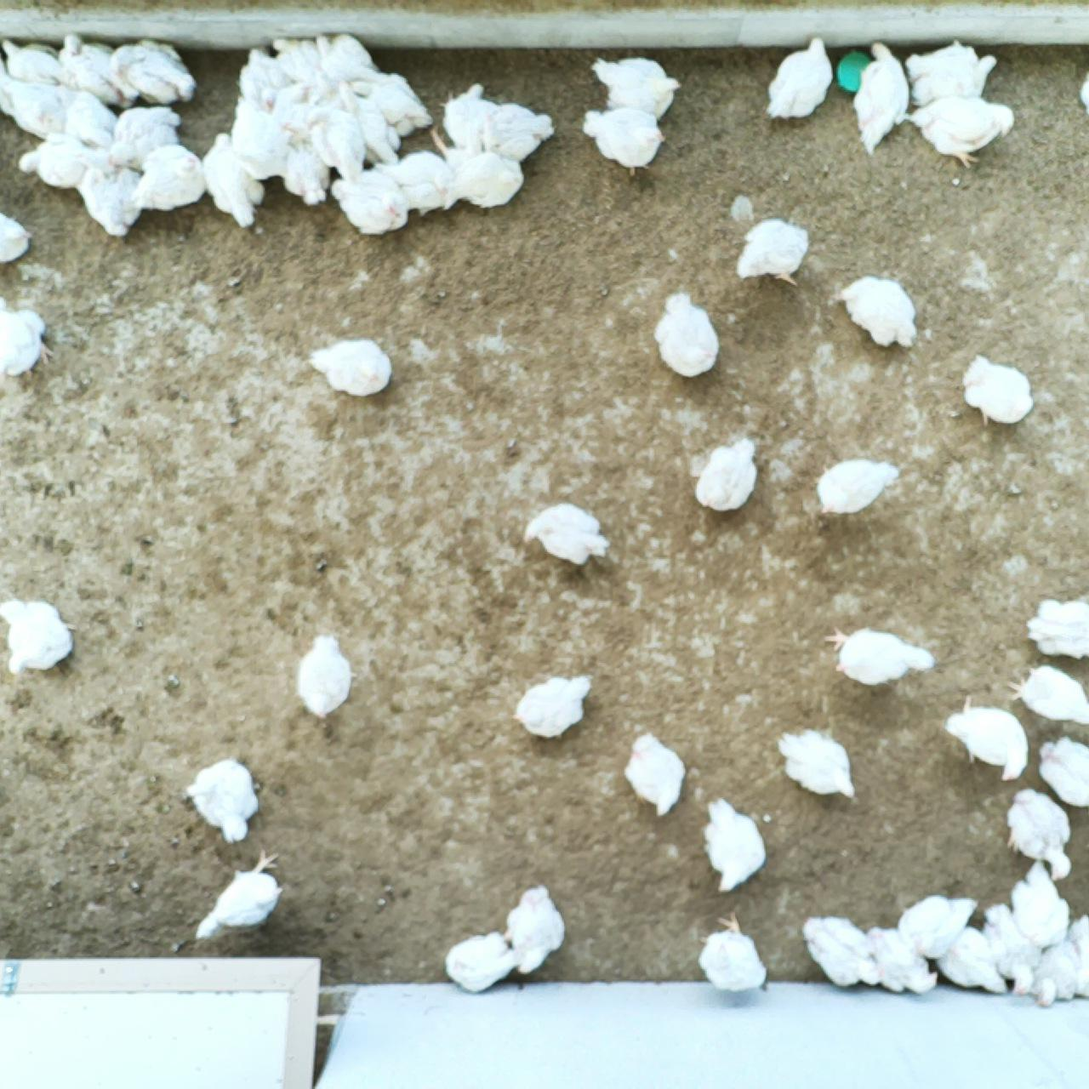chicken: (190, 843, 290, 945), (427, 123, 529, 216), (940, 688, 1032, 786), (911, 93, 1018, 174), (67, 143, 149, 245), (821, 623, 938, 692), (183, 752, 266, 847), (850, 38, 915, 157), (587, 51, 684, 129), (797, 908, 883, 995), (1002, 783, 1076, 884), (53, 29, 138, 114), (700, 792, 770, 895), (520, 497, 614, 573), (902, 33, 1000, 105), (579, 103, 668, 182), (0, 595, 82, 680), (763, 30, 836, 125), (326, 163, 413, 242), (308, 334, 404, 405), (649, 287, 722, 380), (108, 35, 197, 111), (979, 896, 1045, 998), (775, 723, 859, 803), (504, 879, 569, 982), (290, 629, 361, 723), (836, 271, 919, 351), (958, 349, 1041, 429), (201, 130, 268, 229), (694, 908, 770, 995), (1005, 858, 1077, 949), (622, 729, 689, 824), (371, 147, 459, 219), (507, 672, 597, 742), (348, 69, 438, 139), (867, 920, 942, 1003), (732, 217, 816, 291), (226, 93, 289, 190), (335, 79, 402, 170), (130, 142, 211, 217), (896, 892, 981, 963), (475, 98, 555, 172), (691, 434, 761, 518), (102, 101, 183, 173), (814, 453, 903, 517), (936, 920, 1012, 992), (0, 292, 59, 383), (303, 99, 368, 180), (278, 116, 335, 208), (1029, 729, 1089, 812), (445, 928, 519, 995), (432, 80, 501, 150), (1025, 589, 1089, 664), (12, 131, 90, 192), (53, 78, 118, 148), (0, 72, 64, 139), (1029, 938, 1086, 1010), (0, 31, 70, 89), (234, 44, 292, 113), (313, 29, 380, 87), (271, 33, 325, 96), (1063, 912, 1089, 997), (0, 208, 35, 271), (266, 81, 313, 126)
